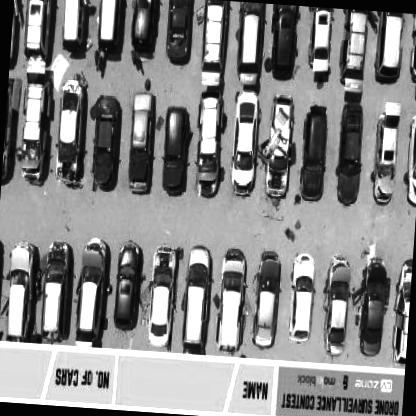car: (18, 75, 53, 193), (262, 93, 296, 205), (89, 94, 126, 193), (76, 236, 109, 346), (214, 249, 249, 351), (54, 78, 88, 182), (320, 253, 354, 356), (181, 246, 213, 354), (2, 237, 36, 338), (193, 92, 226, 193), (334, 102, 366, 206), (159, 104, 194, 198), (40, 240, 72, 342), (126, 92, 158, 194), (228, 90, 258, 198), (147, 244, 178, 348), (251, 250, 283, 350), (372, 101, 402, 207), (358, 260, 390, 356), (300, 106, 328, 201), (198, 0, 228, 86), (372, 12, 406, 87), (285, 256, 316, 338), (113, 242, 142, 329), (21, 0, 55, 73), (268, 5, 301, 78), (235, 3, 264, 83), (341, 10, 369, 90), (390, 261, 411, 357), (162, 0, 193, 64), (306, 8, 334, 76), (95, 0, 127, 51), (128, 0, 158, 52), (60, 0, 89, 47), (404, 113, 415, 202), (408, 15, 415, 96)
